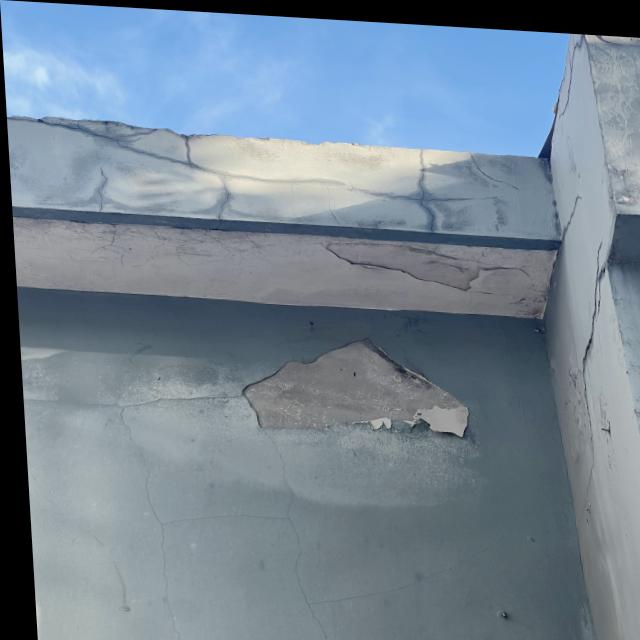spalling: (224, 329, 486, 445), (324, 237, 488, 287)
